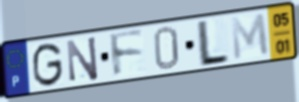0: (152, 24, 181, 72)
F: (107, 28, 146, 80)
G: (31, 41, 65, 89)
L: (197, 18, 232, 70)
M: (229, 11, 272, 63)
N: (65, 34, 101, 84)
